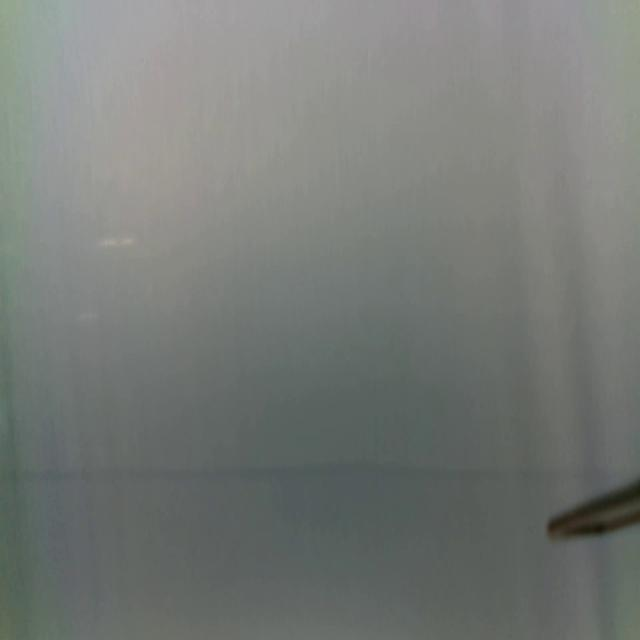color bleeding: (2, 453, 619, 494)
